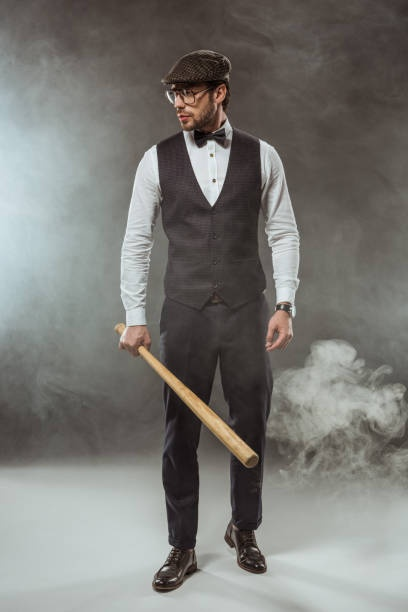bita: (115, 323, 254, 472)
